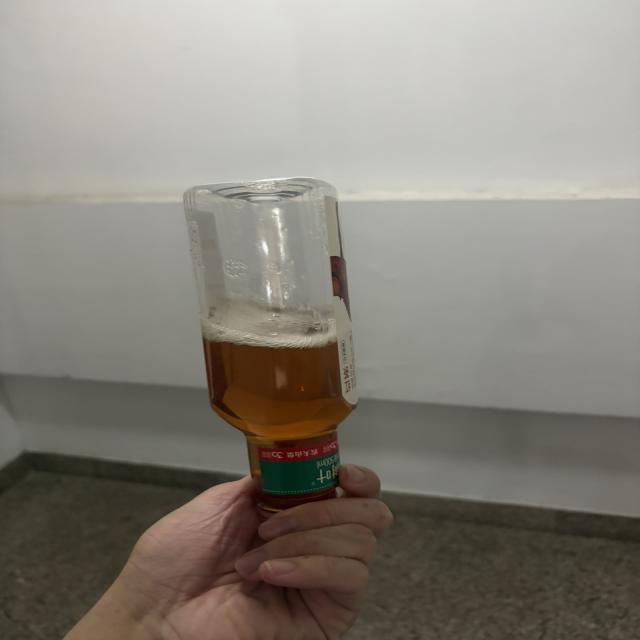medium: (184, 177, 357, 514)
